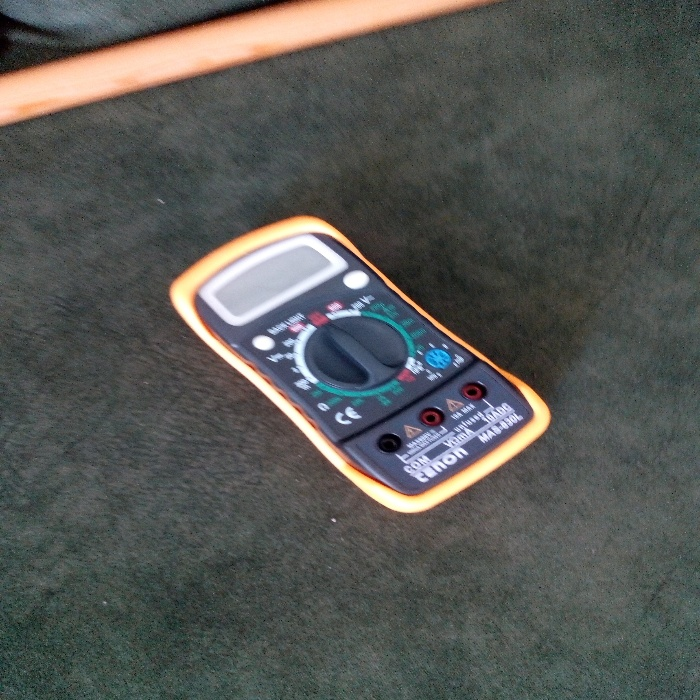multimetre: (139, 197, 562, 514)
